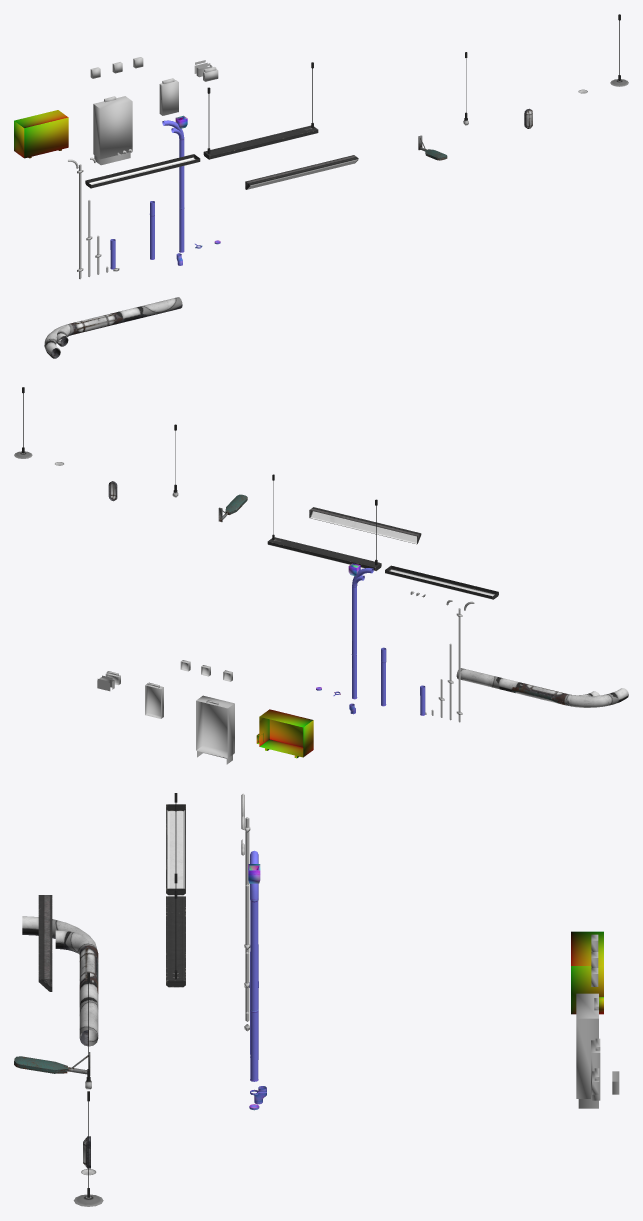
The model's file is StuffSet01.FBX.
3 views of the same model, one above another, from view 1: azimuth 30°, elevation 25°; view 2: azimuth 150°, elevation 25°; view 3: azimuth 270°, elevation 25° (orthographic). The views are drawn at different scales.
Visible parts, largest first — view 1: LargeFuseBox, AirConditioner, PipeThick, Light_Long_hanging, Light_Long_Ceiling, Light_Long_corner, FuseBox, DrainPipe_; view 2: LargeFuseBox, AirConditioner, Light_Long_corner, PipeThick, Light_Long_hanging, Light_Long_Ceiling, PipeThick_WCorner, FuseBox, DrainPipe_; view 3: LargeFuseBox, Light_Long_hanging, AirConditioner, PipeThick, Light_Long_Ceiling, DrainPipe_, Light_Long_corner, Light_Wall_02, PipeThick_WCorner, PipeThick_NCorner.
Boxes of the visible parts, x1=… form: LargeFuseBox: x1=93, y1=96, x2=132, y2=165; AirConditioner: x1=14, y1=110, x2=68, y2=158; PipeThick: x1=70, y1=297, x2=182, y2=334; Light_Long_hanging: x1=203, y1=62, x2=318, y2=159; Light_Long_Ceiling: x1=85, y1=154, x2=200, y2=188; Light_Long_corner: x1=245, y1=155, x2=358, y2=189; FuseBox: x1=159, y1=78, x2=178, y2=115; DrainPipe_: x1=179, y1=138, x2=184, y2=252; LargeFuseBox: x1=196, y1=695, x2=234, y2=764; AirConditioner: x1=256, y1=709, x2=313, y2=758; Light_Long_corner: x1=309, y1=507, x2=421, y2=544; PipeThick: x1=456, y1=668, x2=568, y2=705; Light_Long_hanging: x1=267, y1=474, x2=381, y2=570; Light_Long_Ceiling: x1=385, y1=565, x2=498, y2=599; PipeThick_WCorner: x1=564, y1=688, x2=628, y2=707; FuseBox: x1=145, y1=682, x2=163, y2=718; DrainPipe_: x1=351, y1=585, x2=357, y2=699; LargeFuseBox: x1=576, y1=993, x2=598, y2=1108; Light_Long_hanging: x1=166, y1=793, x2=185, y2=987; AirConditioner: x1=571, y1=931, x2=603, y2=1014; PipeThick: x1=79, y1=945, x2=98, y2=1046; Light_Long_Ceiling: x1=166, y1=804, x2=185, y2=895; DrainPipe_: x1=250, y1=899, x2=258, y2=1081; Light_Long_corner: x1=38, y1=895, x2=52, y2=991; Light_Wall_02: x1=14, y1=1052, x2=90, y2=1075; PipeThick_WCorner: x1=22, y1=916, x2=96, y2=951; PipeThick_NCorner: x1=55, y1=930, x2=96, y2=954.
Size of what is drawn, in the model's own units: 16.5 by 5.15 by 9.23.
